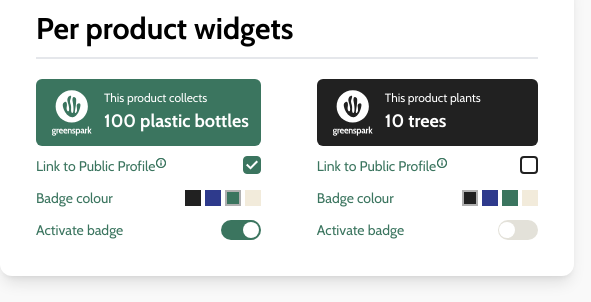
ProductWidgets › should only activate 1 badge and deactivate others on click
Expected: the checkbox named "toggle-1" is checked, x1=221 y1=220 x2=261 y2=240
Click the checkbox named "toggle-2". click: (518, 230)
box: x1=498 y1=220 x2=538 y2=240
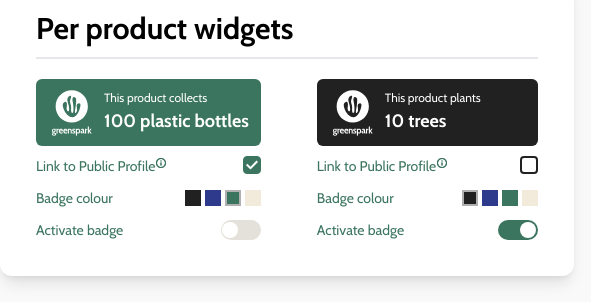
Result: the checkbox named "toggle-2" is checked at x1=498 y1=220 x2=538 y2=240
Result: the checkbox named "toggle-1" is not checked at x1=221 y1=220 x2=261 y2=240
